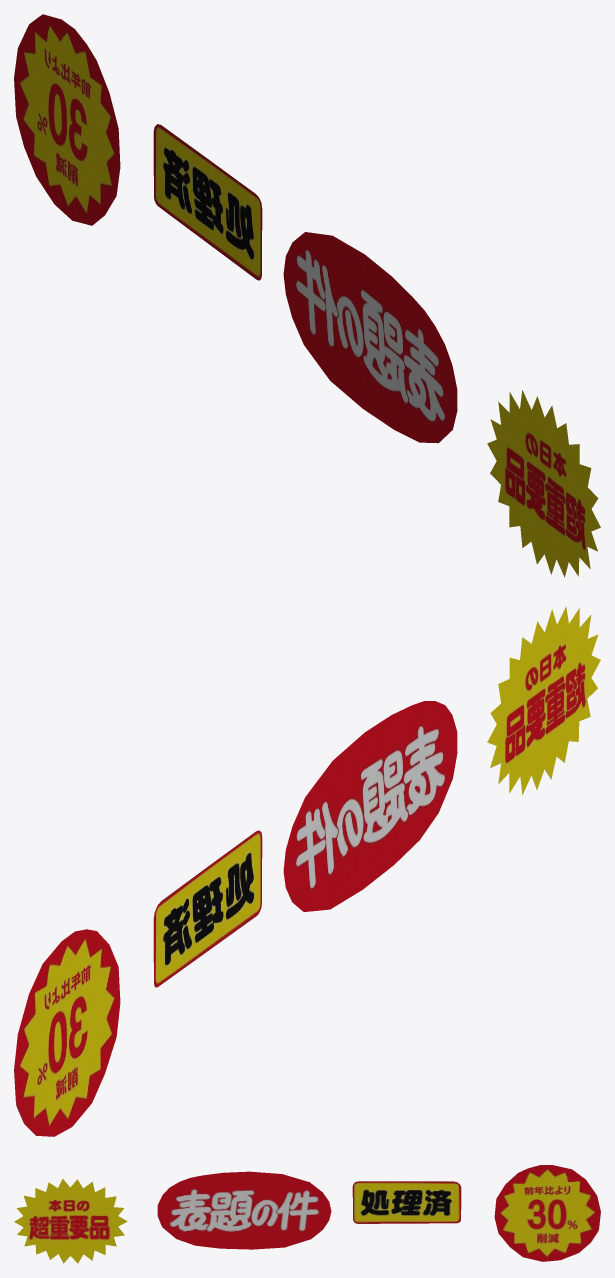
The model's file is Adesivos.fbx.
3 renders of one model, top to bottom at view 1: azimuth 30°, elevation 25°; view 2: azimuth 150°, elevation 25°; view 3: azimuth 270°, elevation 25°, orthographic. The views are drawn at different scales.
Parts seen in each view (by area): view 1: Plane.001, Plane.002, Plane, Plane.003; view 2: Plane.001, Plane.002, Plane, Plane.003; view 3: Plane.001, Plane.002, Plane, Plane.003.
Part boxes in pixels (bbox=[...]): Plane.001: bbox=[283, 232, 457, 443]; Plane.002: bbox=[14, 14, 120, 225]; Plane: bbox=[487, 390, 600, 577]; Plane.003: bbox=[153, 124, 262, 280]; Plane.001: bbox=[283, 701, 457, 911]; Plane.002: bbox=[14, 929, 120, 1136]; Plane: bbox=[487, 606, 600, 795]; Plane.003: bbox=[153, 830, 262, 987]; Plane.001: bbox=[157, 1171, 331, 1249]; Plane.002: bbox=[494, 1165, 600, 1261]; Plane: bbox=[14, 1178, 127, 1263]; Plane.003: bbox=[352, 1181, 461, 1223].
Size of the model in its own units: 0.000167 by 1252 by 6746.
